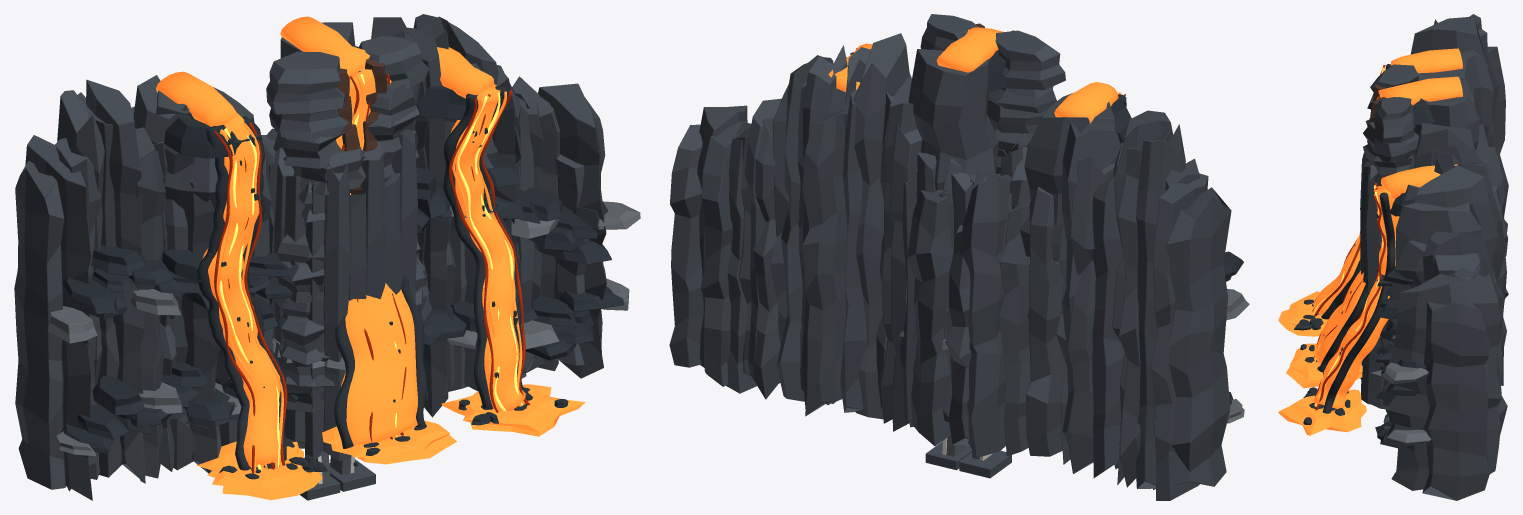
The model's file is cindercoil-hero-kit-v6.glb.
3 views of the same model, side by side, from view 1: azimuth 30°, elevation 25°; view 2: azimuth 150°, elevation 25°; view 3: azimuth 270°, elevation 25° (orthographic). The views are drawn at different scales.
Visible parts, largest first — view 1: rupture_wall__Basalt, rupture_wall__Blackglass, hollow_tower__Basalt, cascade_0__Lava, cascade_1__Lava, rupture_left__Basalt, cascade_2__Lava, rupture_wall__Ash, cascade_0__Blackglass, rupture_right__Basalt, cascade_2__Blackglass, cascade_1__Blackglass (+7 smaller); view 2: rupture_wall__Basalt, rupture_left__Basalt, hollow_tower__Basalt, cascade_1__Lava, broken_launch_pylon__Basalt, cascade_0__Lava, rupture_wall__Blackglass, rupture_right__Basalt, rupture_wall__Ash; view 3: rupture_wall__Basalt, cascade_2__Lava, cascade_1__Lava, rupture_right__Basalt, hollow_tower__Basalt, cascade_0__Lava, rupture_wall__Blackglass, cascade_2__Blackglass, rupture_wall__Ash, rupture_left__Basalt, cascade_1__Blackglass, cascade_0__Blackglass (+2 smaller).
Boxes of the visible parts, x1=… form: rupture_wall__Basalt: x1=14, y1=14, x2=606, y2=500; rupture_wall__Blackglass: x1=61, y1=46, x2=623, y2=453; hollow_tower__Basalt: x1=262, y1=128, x2=417, y2=461; cascade_0__Lava: x1=156, y1=71, x2=322, y2=500; cascade_1__Lava: x1=280, y1=16, x2=456, y2=464; rupture_left__Basalt: x1=266, y1=51, x2=365, y2=412; cascade_2__Lava: x1=437, y1=47, x2=585, y2=436; rupture_wall__Ash: x1=47, y1=201, x2=640, y2=456; cascade_0__Blackglass: x1=197, y1=116, x2=327, y2=479; rupture_right__Basalt: x1=349, y1=36, x2=432, y2=328; cascade_2__Blackglass: x1=443, y1=85, x2=568, y2=425; cascade_1__Blackglass: x1=334, y1=275, x2=426, y2=455; rupture_wall__Basalt: x1=669, y1=33, x2=1231, y2=500; rupture_left__Basalt: x1=987, y1=30, x2=1065, y2=173; hollow_tower__Basalt: x1=900, y1=141, x2=1027, y2=431; cascade_1__Lava: x1=936, y1=27, x2=1003, y2=72; broken_launch_pylon__Basalt: x1=925, y1=441, x2=1011, y2=478; cascade_0__Lava: x1=1054, y1=82, x2=1121, y2=123; rupture_wall__Blackglass: x1=942, y1=48, x2=1243, y2=405; rupture_right__Basalt: x1=920, y1=14, x2=977, y2=50; rupture_wall__Ash: x1=1226, y1=289, x2=1249, y2=423; rupture_wall__Basalt: x1=1385, y1=14, x2=1508, y2=500; cascade_2__Lava: x1=1278, y1=164, x2=1457, y2=435; cascade_1__Lava: x1=1286, y1=76, x2=1462, y2=388; rupture_right__Basalt: x1=1363, y1=97, x2=1418, y2=369; hollow_tower__Basalt: x1=1360, y1=152, x2=1390, y2=409; cascade_0__Lava: x1=1278, y1=48, x2=1462, y2=336; rupture_wall__Blackglass: x1=1373, y1=105, x2=1435, y2=448; cascade_2__Blackglass: x1=1303, y1=183, x2=1395, y2=424; rupture_wall__Ash: x1=1370, y1=334, x2=1431, y2=446; rupture_left__Basalt: x1=1365, y1=64, x2=1418, y2=161; cascade_1__Blackglass: x1=1300, y1=269, x2=1368, y2=372; cascade_0__Blackglass: x1=1294, y1=64, x2=1390, y2=330.
Bounding box in the file's own units: 485 × 364 × 215.
